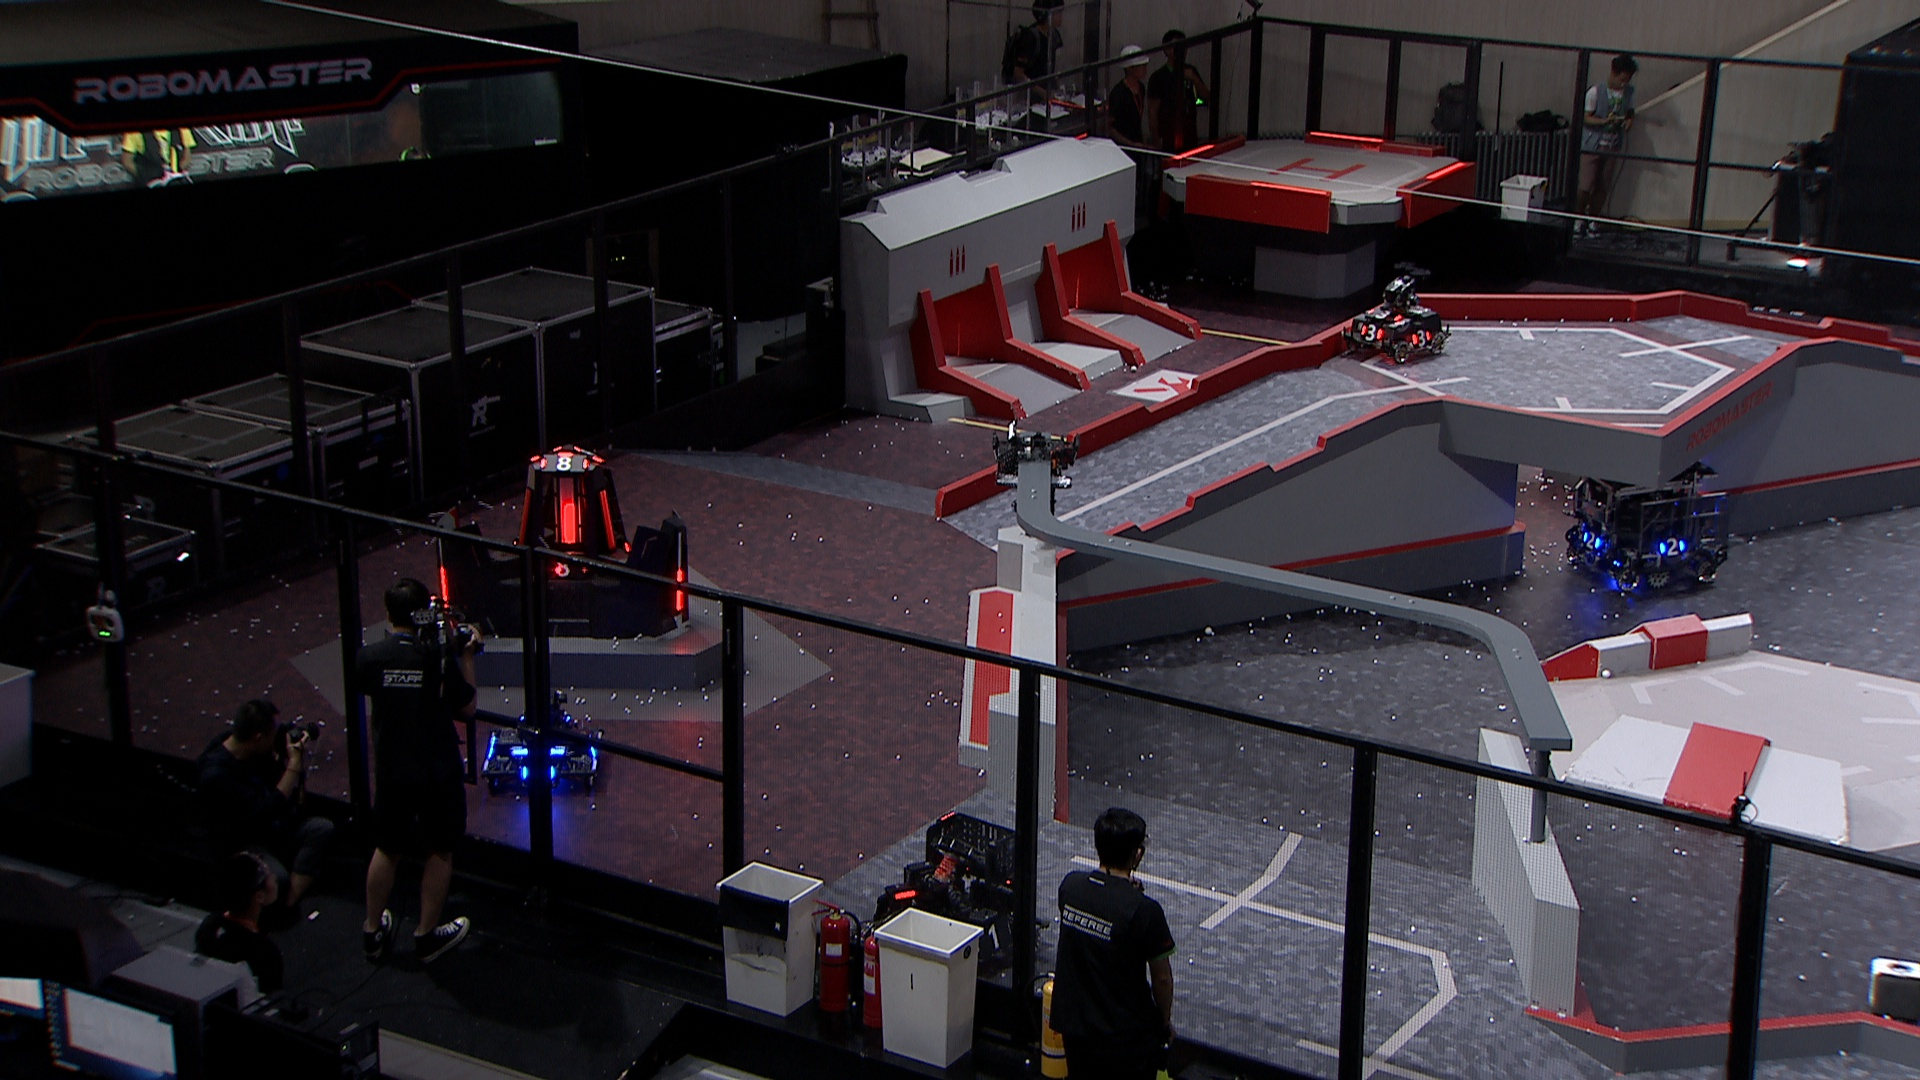armor: (975, 916, 1011, 956), (597, 485, 617, 551), (516, 484, 533, 550), (558, 498, 580, 547), (537, 555, 588, 575), (537, 456, 588, 472), (436, 564, 452, 612), (674, 567, 688, 613), (1659, 537, 1687, 556), (1367, 306, 1400, 320), (1358, 322, 1382, 342), (1580, 529, 1600, 550), (1410, 330, 1433, 347)
base: (427, 444, 692, 640)
car: (874, 806, 1048, 982), (1564, 433, 1731, 589), (476, 688, 603, 796), (1340, 266, 1452, 367)
watcher: (989, 415, 1087, 529)
